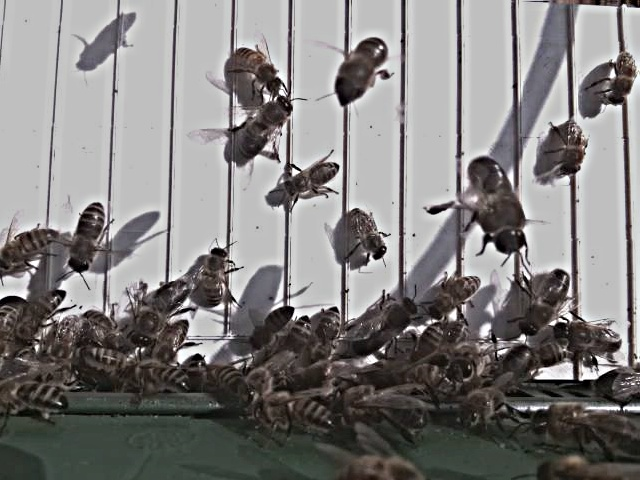Drone: (460, 153, 534, 258), (345, 289, 427, 359), (128, 272, 194, 349), (236, 92, 296, 164), (516, 263, 575, 336), (552, 316, 627, 355)
Worker: (334, 31, 394, 106), (66, 196, 109, 276), (426, 270, 485, 322), (233, 41, 286, 98), (0, 225, 58, 276), (346, 201, 390, 261), (281, 158, 343, 200), (198, 239, 232, 311), (602, 48, 640, 109), (251, 303, 297, 351), (558, 112, 591, 177), (313, 299, 342, 364)
